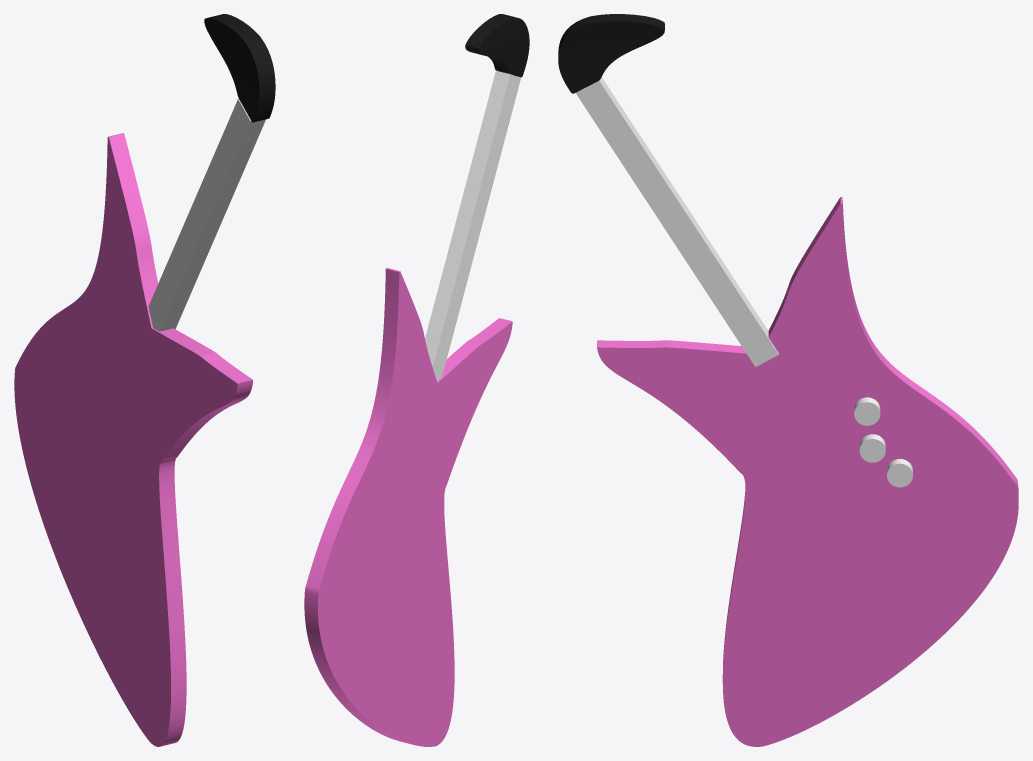
The model's file is Rockers.glb.
3 renders of one model, left to right at view 1: azimuth 30°, elevation 25°; view 2: azimuth 150°, elevation 25°; view 3: azimuth 270°, elevation 25°, orthographic. The views are drawn at different scales.
Visible parts, largest first — view 1: Plane; view 2: Plane; view 3: Plane.
Part boxes in pixels (x1=…): Plane: x1=14, y1=14, x2=275, y2=746; Plane: x1=304, y1=14, x2=529, y2=746; Plane: x1=558, y1=14, x2=1018, y2=746.
Bounding box in the file's own units: 0.00863 × 0.245 × 0.1406.
Materials: 3 (1 with a texture image).
